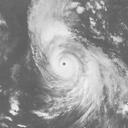cyclone: (40, 37, 95, 93)
